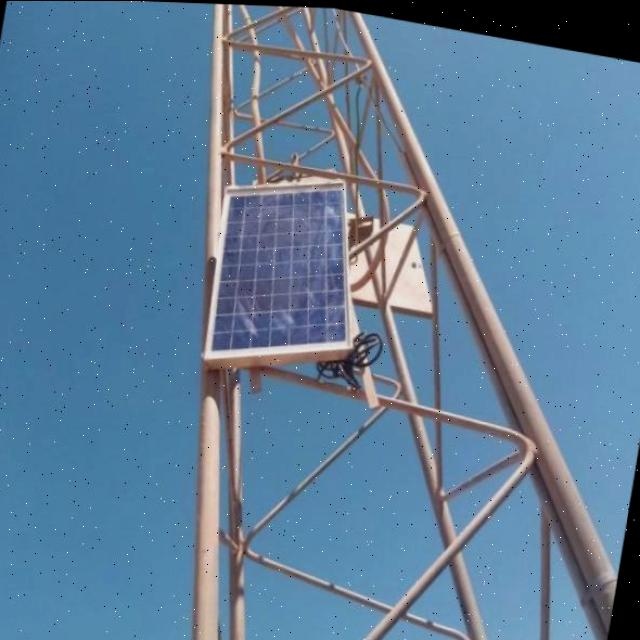Normal Solar Panel: (196, 160, 376, 383)
